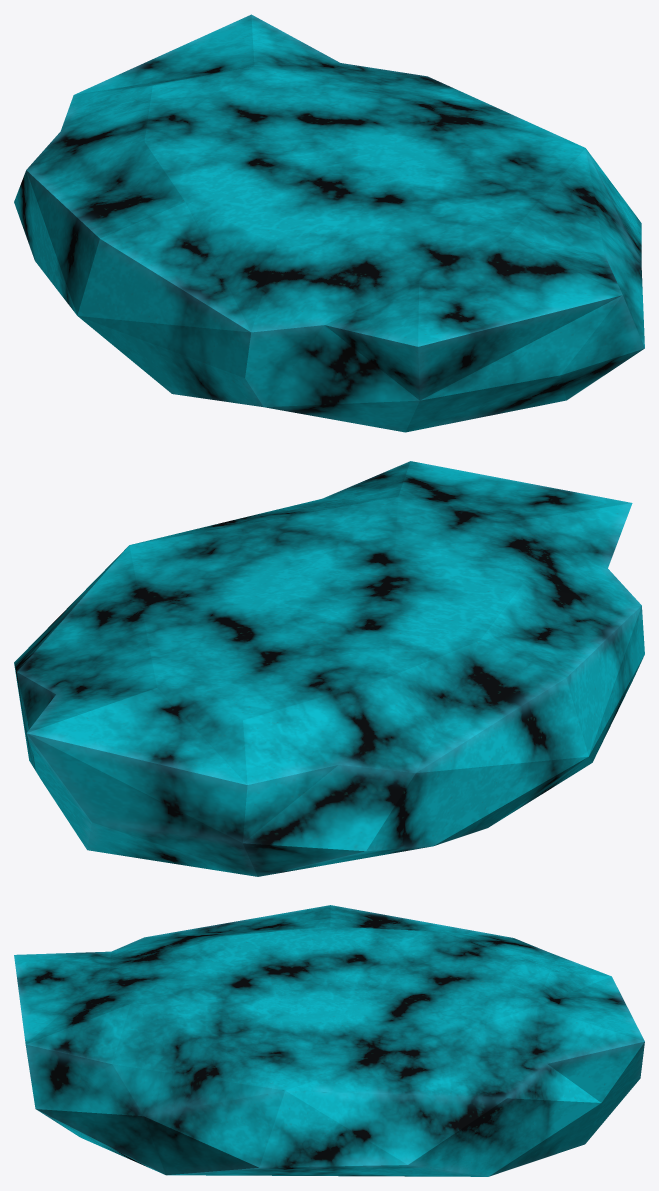
The model's file is Turquoise.glb.
3 renders of one model, top to bottom at view 1: azimuth 30°, elevation 25°; view 2: azimuth 150°, elevation 25°; view 3: azimuth 270°, elevation 25°, orthographic. The views are drawn at different scales.
Visible parts, largest first — view 1: Cylinder.001; view 2: Cylinder.001; view 3: Cylinder.001.
Part boxes in pixels (x1,y1,x2,y2): Cylinder.001: [14, 14, 644, 432]; Cylinder.001: [14, 461, 644, 876]; Cylinder.001: [14, 905, 644, 1176].
Size of the model in its own units: 1.21 by 0.3887 by 1.54.
Materials: 1 (1 with a texture image).
